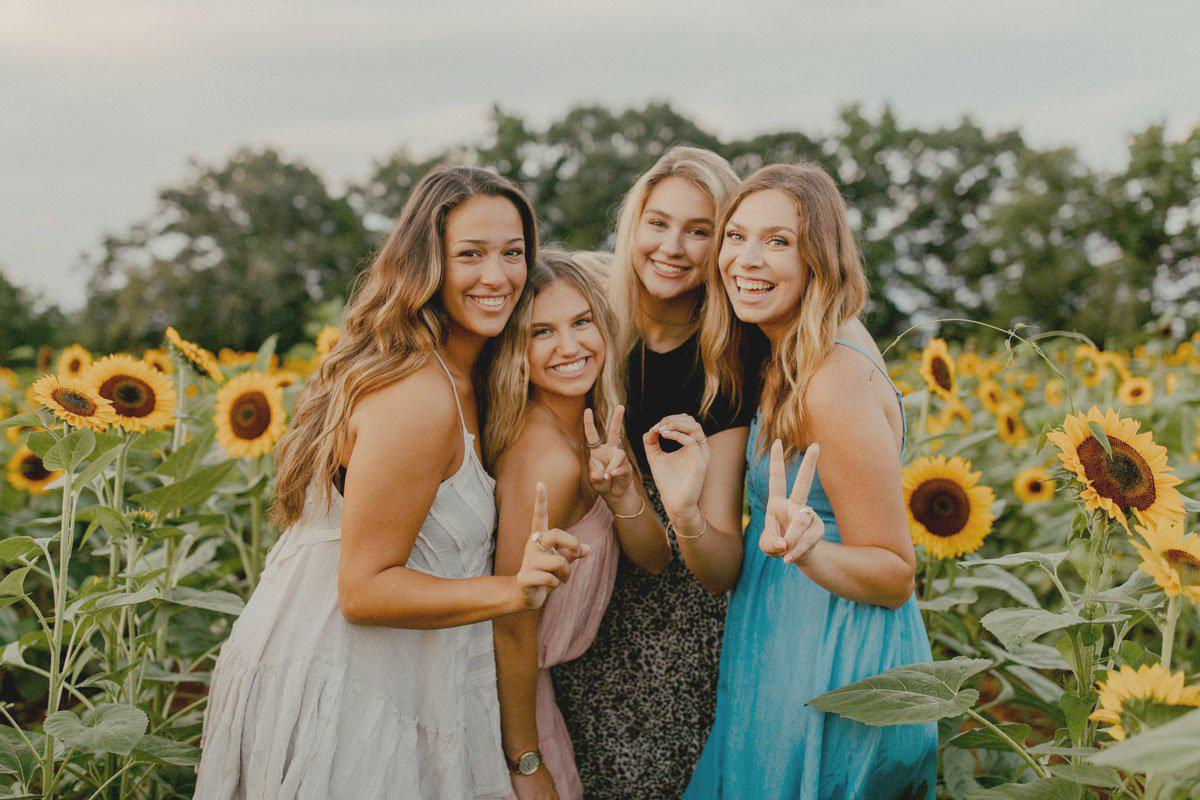Sober: (446, 202, 529, 325), (727, 200, 804, 329), (637, 184, 711, 291), (531, 292, 602, 394)
